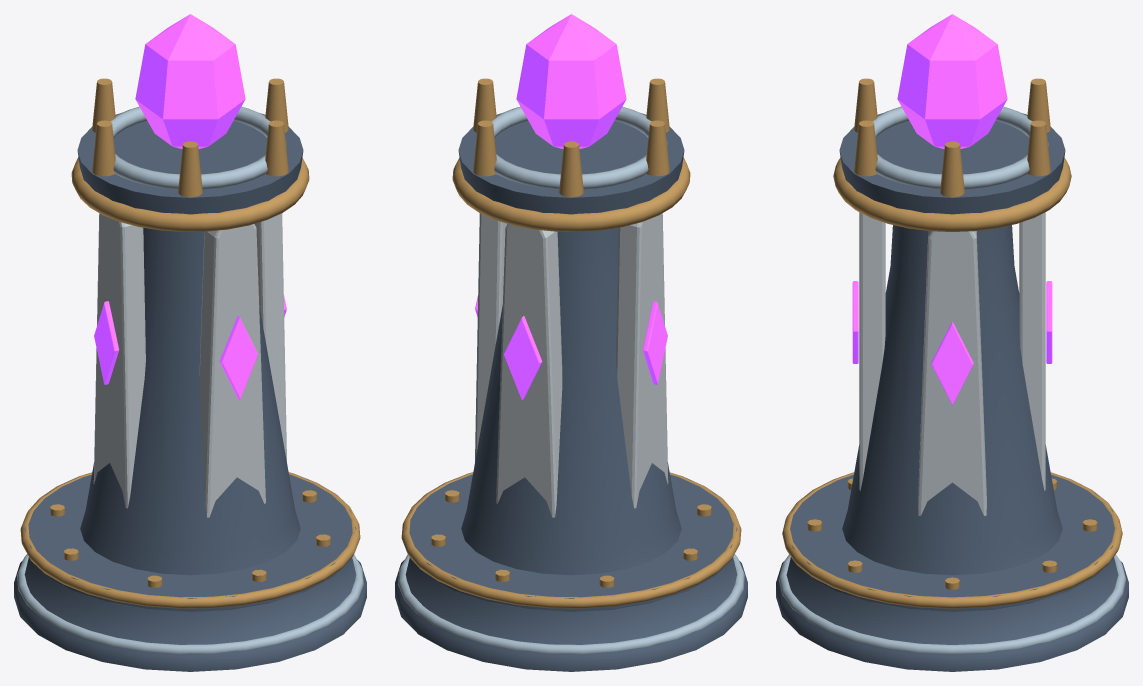
File: moonsteel-convergence-lunar-sentinel-a04bee74__18152.glb
3 views of the same model, side by side, from view 1: azimuth 30°, elevation 25°; view 2: azimuth 150°, elevation 25°; view 3: azimuth 270°, elevation 25° (orthographic).
Parts seen in each view (by area): view 1: lunar-sentinel; view 2: lunar-sentinel; view 3: lunar-sentinel.
Boxes of the visible parts, <box> form: lunar-sentinel: <box>14,14,366,671</box>; lunar-sentinel: <box>395,14,747,671</box>; lunar-sentinel: <box>776,14,1128,671</box>.
Size of the model in its own units: 2.56 by 4.67 by 2.56.
